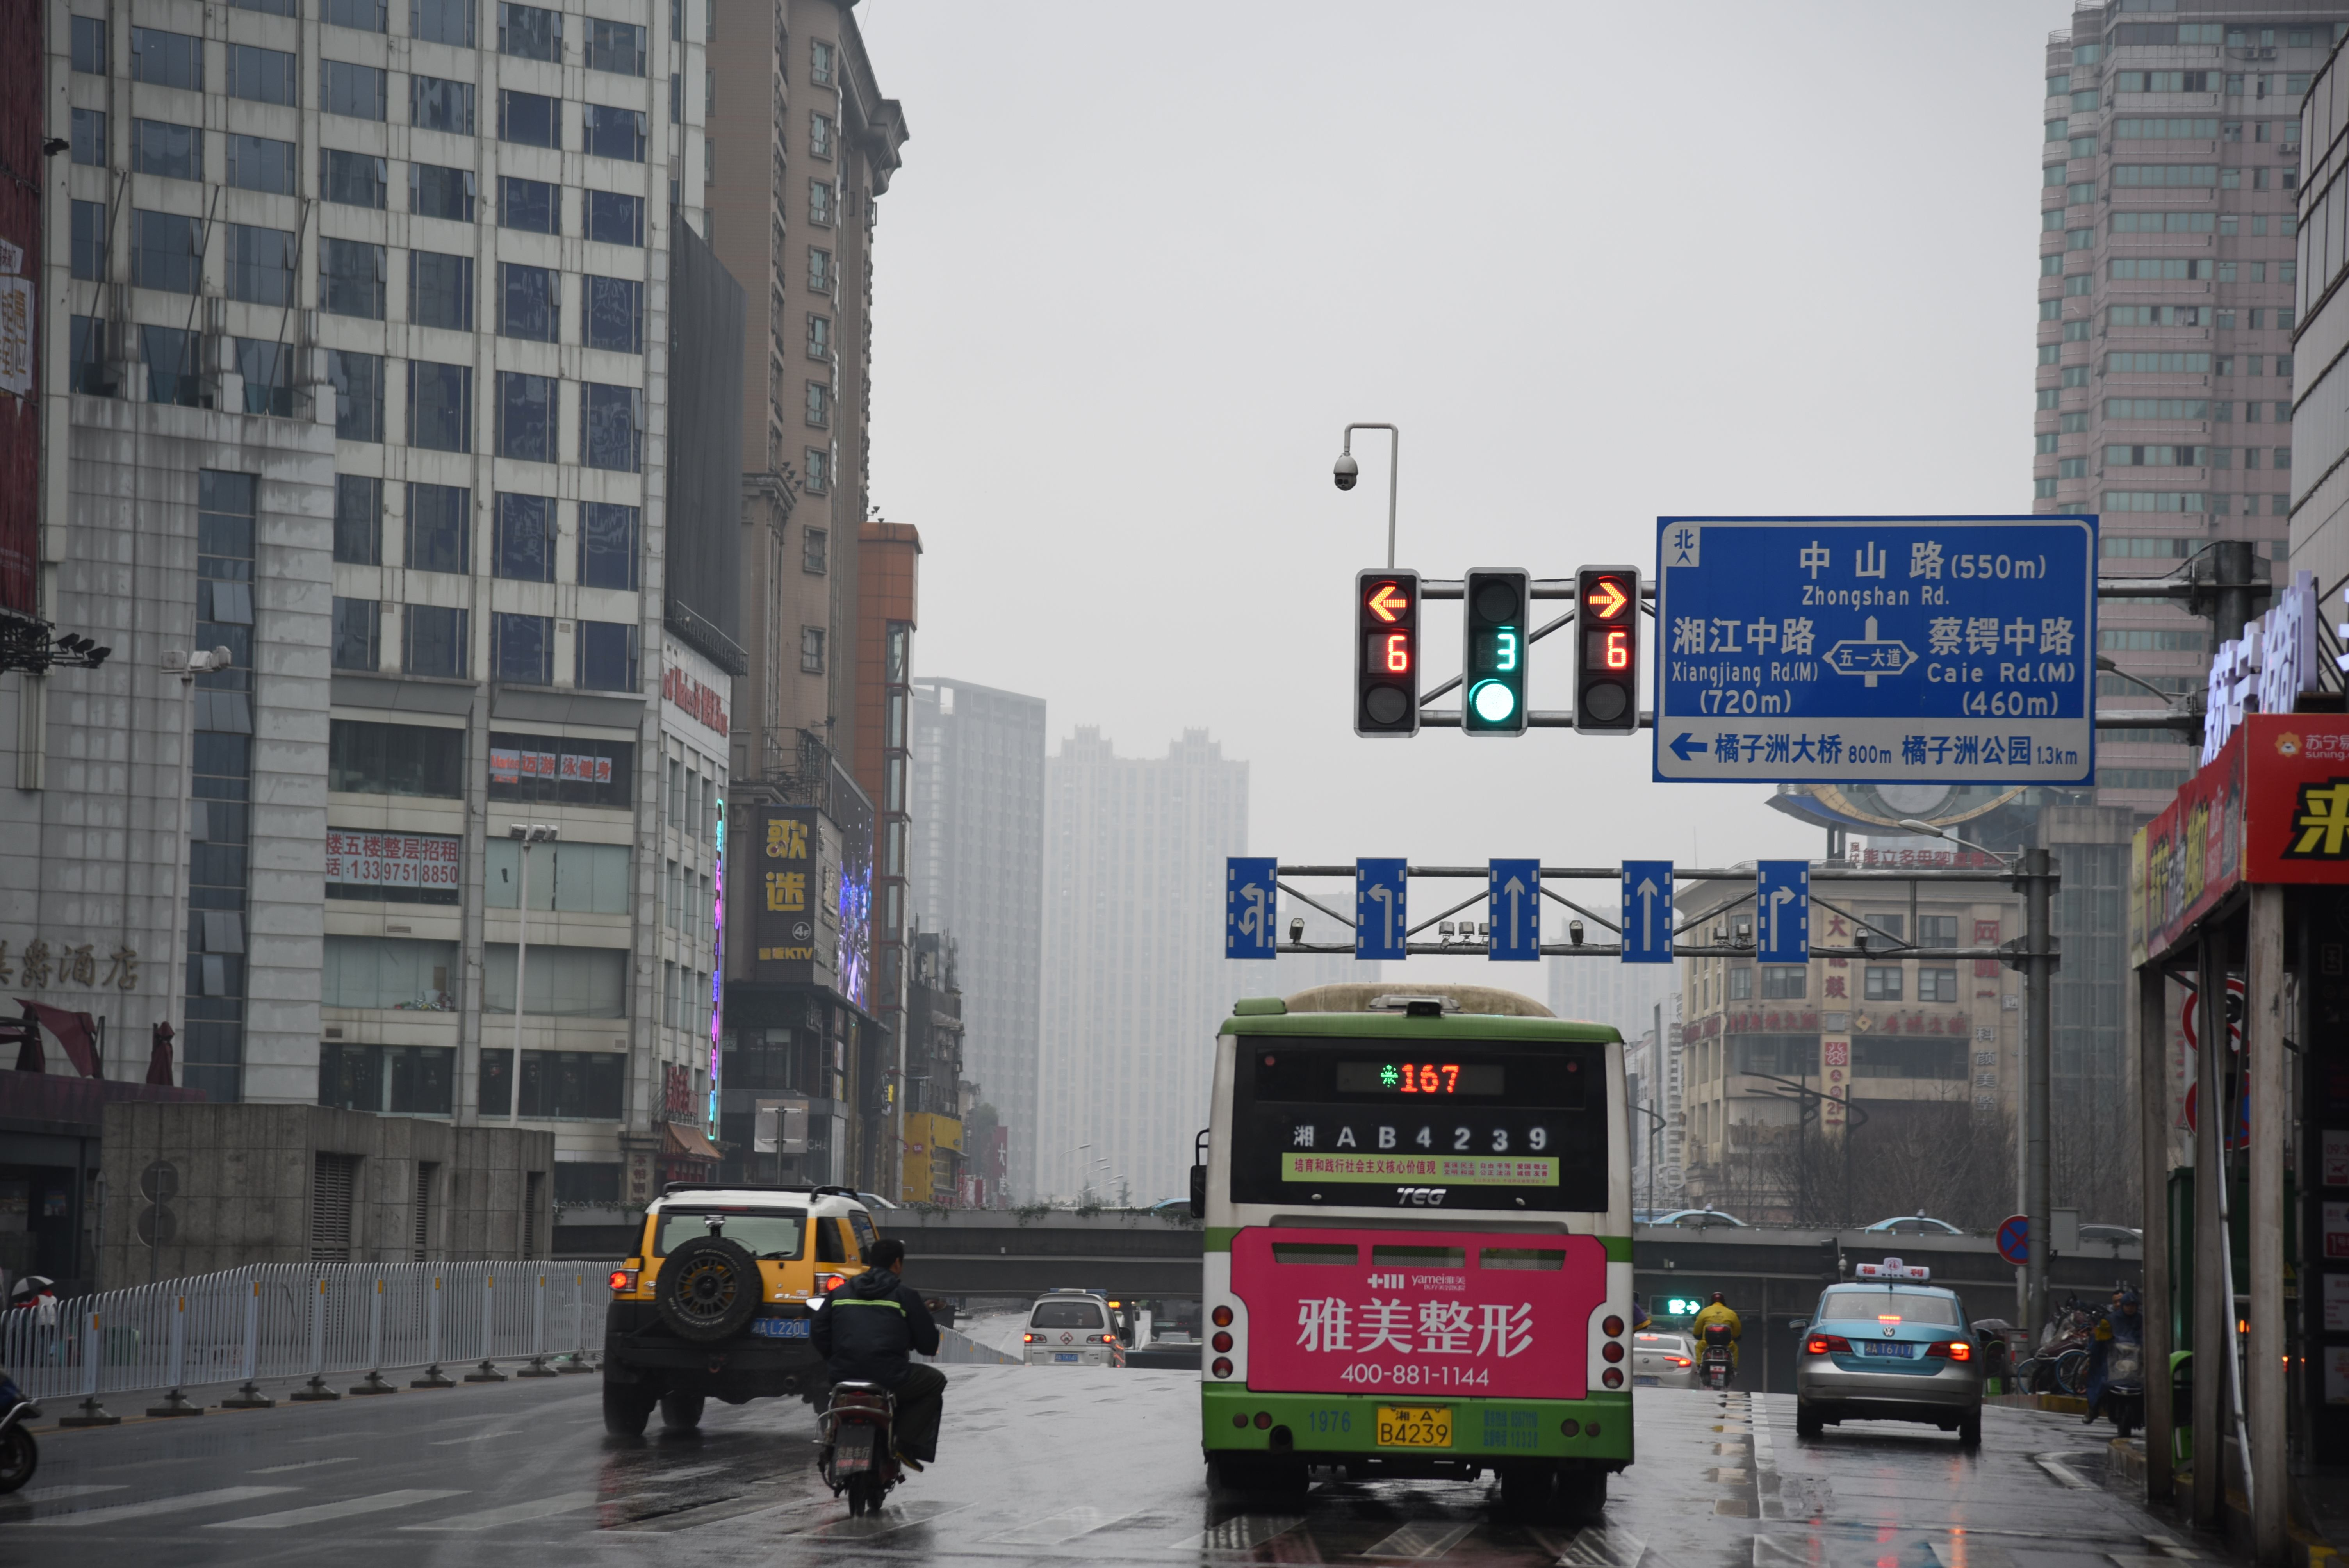green: (1469, 565, 1537, 749)
red: (1567, 556, 1649, 749), (1355, 560, 1425, 747)
